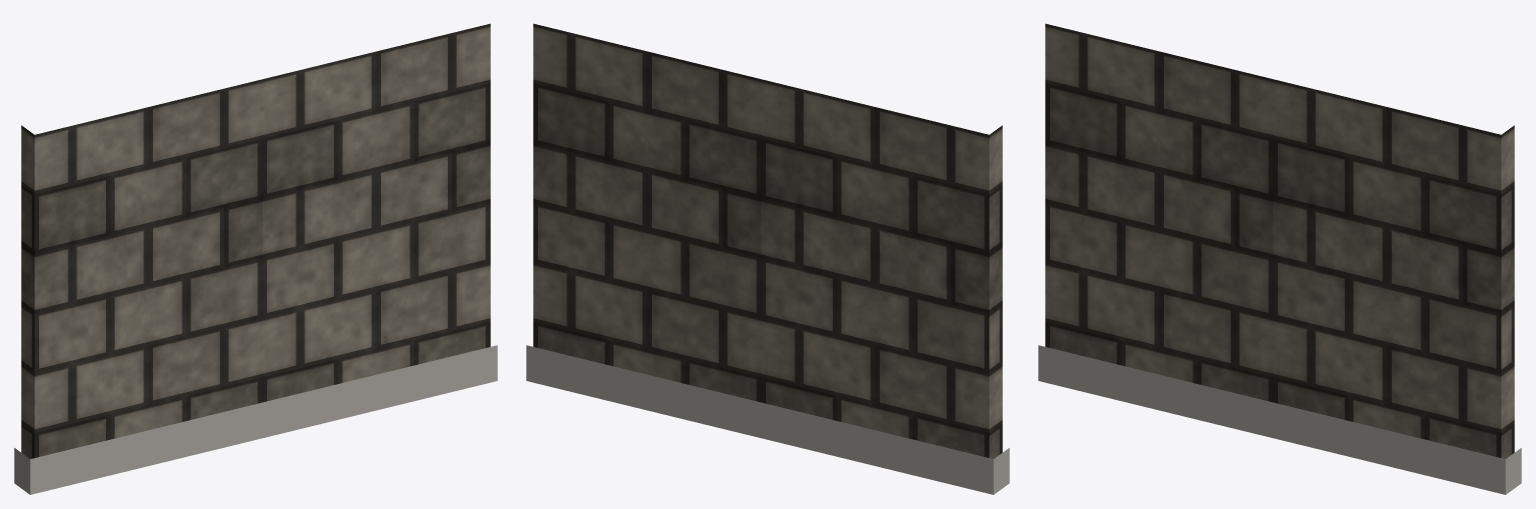
File: building_wall.glb
3 views of the same model, side by side, from view 1: azimuth 30°, elevation 25°; view 2: azimuth 150°, elevation 25°; view 3: azimuth 330°, elevation 25° (orthographic).
Parts seen in each view (by area): view 1: prop; view 2: prop; view 3: prop.
Part boxes in pixels (x1=…): prop: x1=14, y1=23, x2=497, y2=494; prop: x1=526, y1=23, x2=1009, y2=494; prop: x1=1038, y1=23, x2=1521, y2=494.
Bounding box in the file's own units: 4.1 × 3 × 0.24.
2 materials, 1 textured.
